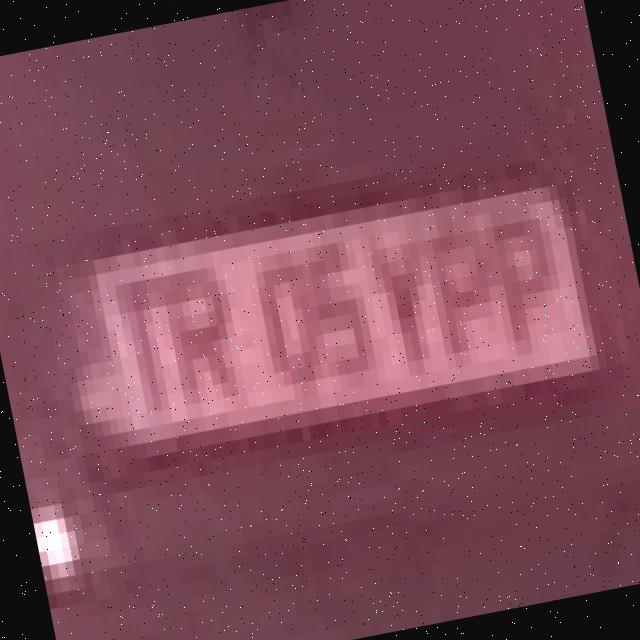Autre: (38, 127, 621, 478)
